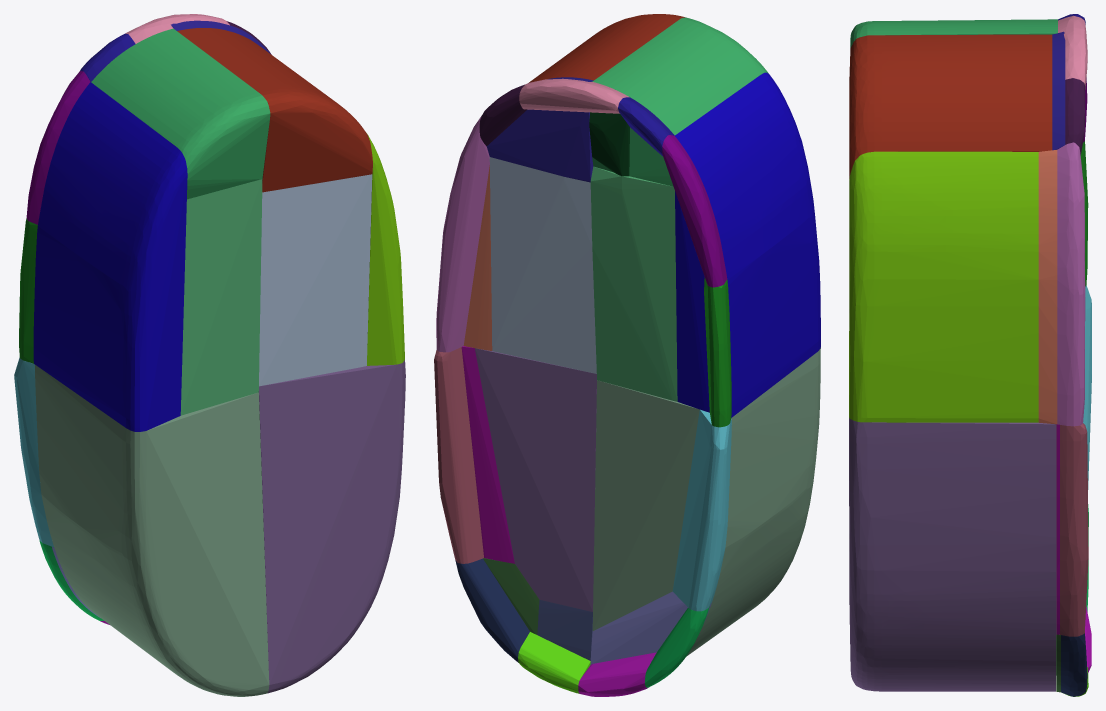
Rendered from coacd_collision.obj.
3 views of the same model, side by side, from view 1: azimuth 30°, elevation 25°; view 2: azimuth 150°, elevation 25°; view 3: azimuth 270°, elevation 25° (orthographic). The views are drawn at different scales.
Parts seen in each view (by area): view 1: geometry_0, geometry_5, geometry_1, geometry_6, geometry_10, geometry_3, geometry_15, geometry_4, geometry_2, geometry_11, geometry_8, geometry_24 (+3 smaller); view 2: geometry_0, geometry_5, geometry_1, geometry_6, geometry_3, geometry_10, geometry_2, geometry_7, geometry_13, geometry_18, geometry_14, geometry_11 (+14 smaller); view 3: geometry_1, geometry_4, geometry_15, geometry_7, geometry_13, geometry_9, geometry_10, geometry_18, geometry_21, geometry_24, geometry_26, geometry_2 (+2 smaller).
Part boxes in pixels (left/top/right/bottom): geometry_0: left=35, top=365, right=269, bottom=696; geometry_5: left=33, top=82, right=187, bottom=431; geometry_1: left=258, top=359, right=405, bottom=693; geometry_6: left=259, top=174, right=372, bottom=386; geometry_10: left=91, top=28, right=270, bottom=199; geometry_3: left=180, top=179, right=262, bottom=415; geometry_15: left=177, top=28, right=372, bottom=192; geometry_4: left=367, top=134, right=404, bottom=365; geometry_2: left=14, top=357, right=54, bottom=547; geometry_11: left=26, top=71, right=90, bottom=224; geometry_8: left=19, top=218, right=37, bottom=363; geometry_24: left=125, top=14, right=229, bottom=43; geometry_0: left=592, top=347, right=820, bottom=656; geometry_5: left=675, top=72, right=820, bottom=417; geometry_1: left=475, top=348, right=596, bottom=611; geometry_6: left=489, top=157, right=596, bottom=373; geometry_3: left=590, top=166, right=677, bottom=401; geometry_10: left=592, top=17, right=768, bottom=186; geometry_2: left=672, top=409, right=731, bottom=611; geometry_7: left=436, top=116, right=489, bottom=352; geometry_13: left=434, top=347, right=483, bottom=563; geometry_18: left=486, top=77, right=593, bottom=182; geometry_14: left=461, top=346, right=514, bottom=563; geometry_11: left=662, top=135, right=727, bottom=287; geometry_1: left=849, top=417, right=1055, bottom=691; geometry_4: left=849, top=151, right=1038, bottom=422; geometry_15: left=849, top=34, right=1052, bottom=178; geometry_7: left=1057, top=142, right=1085, bottom=426; geometry_13: left=1060, top=423, right=1088, bottom=636; geometry_9: left=1038, top=150, right=1057, bottom=424; geometry_10: left=850, top=19, right=1057, bottom=47; geometry_18: left=1052, top=31, right=1065, bottom=150; geometry_21: left=1061, top=633, right=1087, bottom=696; geometry_24: left=1058, top=15, right=1087, bottom=89; geometry_26: left=1065, top=78, right=1085, bottom=154; geometry_2: left=1083, top=285, right=1091, bottom=489.
Bounding box in the file's own units: 75.18 × 149 × 50.44.
